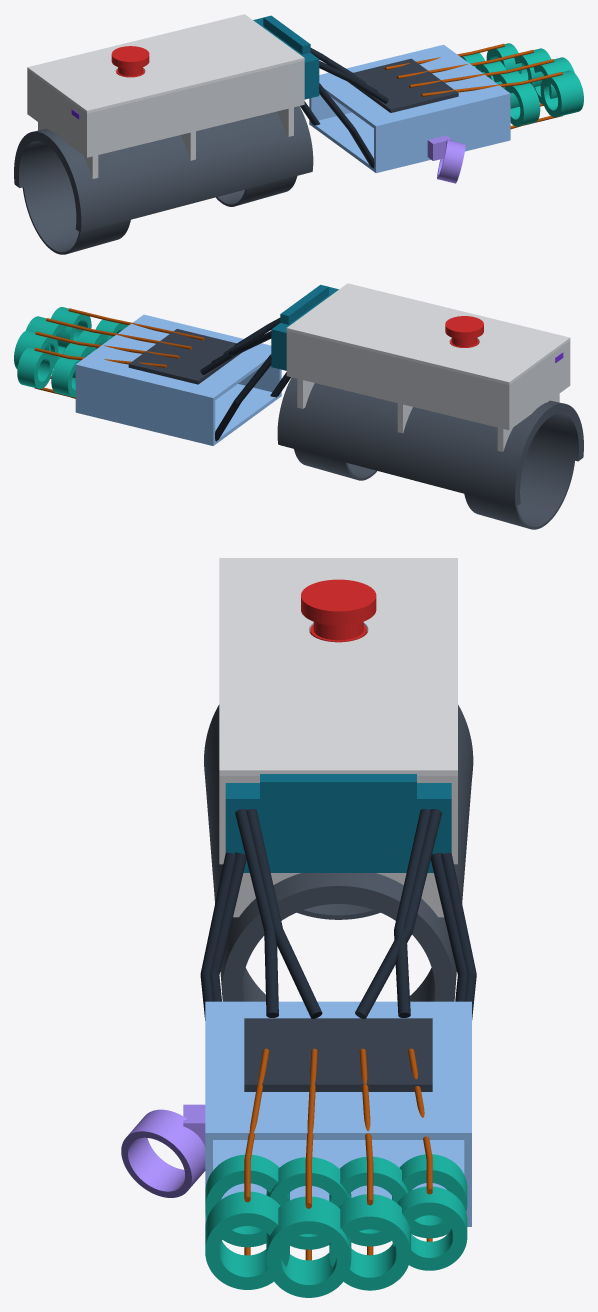
3 views of the same model, one above another, from view 1: azimuth 30°, elevation 25°; view 2: azimuth 150°, elevation 25°; view 3: azimuth 270°, elevation 25° (orthographic). The views are drawn at different scales.
Visible parts, largest first — view 1: Forearm cuff, Pack base, Base glove, Pack lid, Finger cuffs (8), Dorsal plate, Tendons (8), Bowden sheaths (8), Sheath anchor block, Thumb spacer, Emergency stop; view 2: Forearm cuff, Base glove, Pack base, Pack lid, Finger cuffs (8), Dorsal plate, Tendons (8), Bowden sheaths (8), Sheath anchor block, Emergency stop; view 3: Pack lid, Finger cuffs (8), Base glove, Sheath anchor block, Bowden sheaths (8), Forearm cuff, Dorsal plate, Thumb spacer, Tendons (8), Emergency stop, Pack base.
Boxes of the visible parts, box(x1,y1,x2,y2) form: Forearm cuff: box(14, 106, 313, 254); Pack base: box(27, 60, 304, 178); Base glove: box(309, 44, 510, 173); Pack lid: box(27, 14, 304, 113); Finger cuffs (8): box(461, 43, 583, 126); Dorsal plate: box(348, 58, 458, 112); Tendons (8): box(384, 43, 562, 129); Bowden sheaths (8): box(300, 48, 388, 168); Sheath anchor block: box(253, 15, 319, 99); Thumb spacer: box(427, 135, 465, 183); Emergency stop: box(111, 46, 149, 77); Forearm cuff: box(277, 377, 583, 529); Base glove: box(75, 314, 281, 445); Pack base: box(286, 331, 570, 451); Pack lid: box(286, 283, 570, 384); Finger cuffs (8): box(14, 307, 128, 397); Dorsal plate: box(128, 329, 241, 384); Tendons (8): box(34, 308, 204, 398); Bowden sheaths (8): box(200, 318, 290, 441); Sheath anchor block: box(271, 284, 338, 370); Emergency stop: box(445, 316, 483, 347); Pack lid: box(219, 558, 457, 775); Finger cuffs (8): box(205, 1154, 467, 1297); Base glove: box(205, 1001, 471, 1226); Sheath anchor block: box(225, 774, 451, 872); Bowden sheaths (8): box(200, 809, 476, 1020); Forearm cuff: box(204, 704, 473, 1001); Dorsal plate: box(244, 1018, 432, 1091); Thumb spacer: box(121, 1104, 205, 1197); Tendons (8): box(244, 1048, 432, 1260); Emergency stop: box(301, 579, 376, 642); Pack base: box(219, 776, 457, 917).
Bounding box in the file's own units: 0.376 × 0.1246 × 0.1133.
